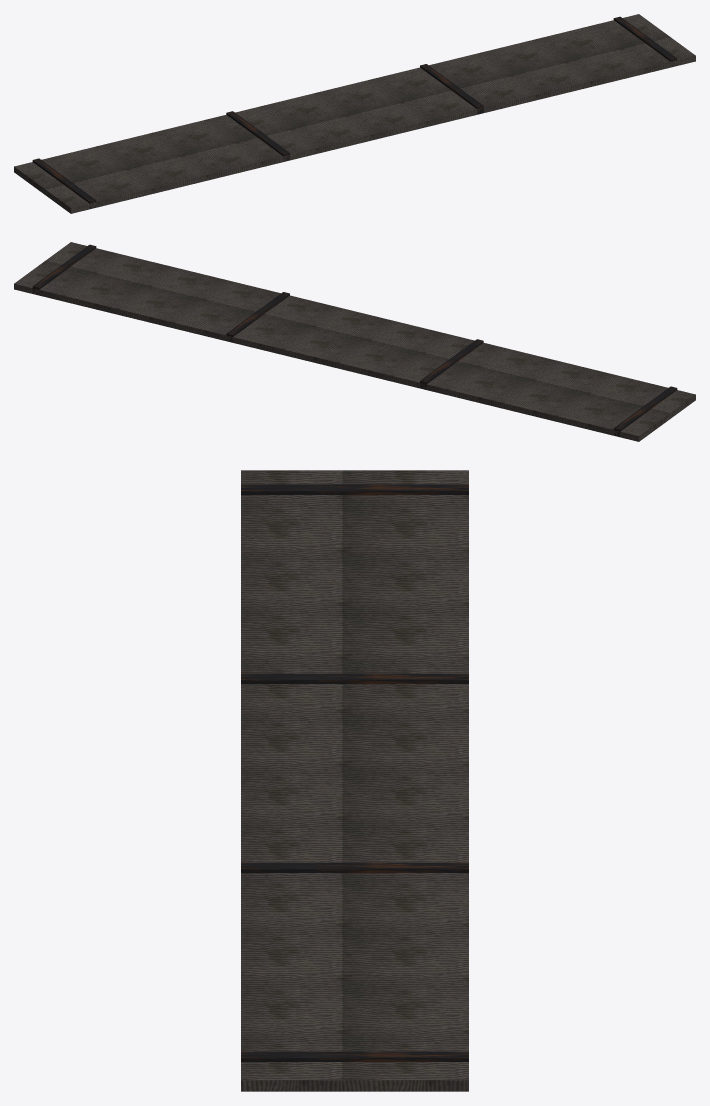
File: hatch_door.glb
3 views of the same model, one above another, from view 1: azimuth 30°, elevation 25°; view 2: azimuth 150°, elevation 25°; view 3: azimuth 270°, elevation 25° (orthographic). The views are drawn at different scales.
Visible parts, largest first — view 1: hatch_door; view 2: hatch_door; view 3: hatch_door.
Boxes of the visible parts, <box> form: hatch_door: <box>14,14,695,213</box>; hatch_door: <box>14,242,695,441</box>; hatch_door: <box>241,470,468,1091</box>.
Bounding box in the file's own units: 11.4 × 0.135 × 1.8.
Materials: 2 (2 with a texture image).
